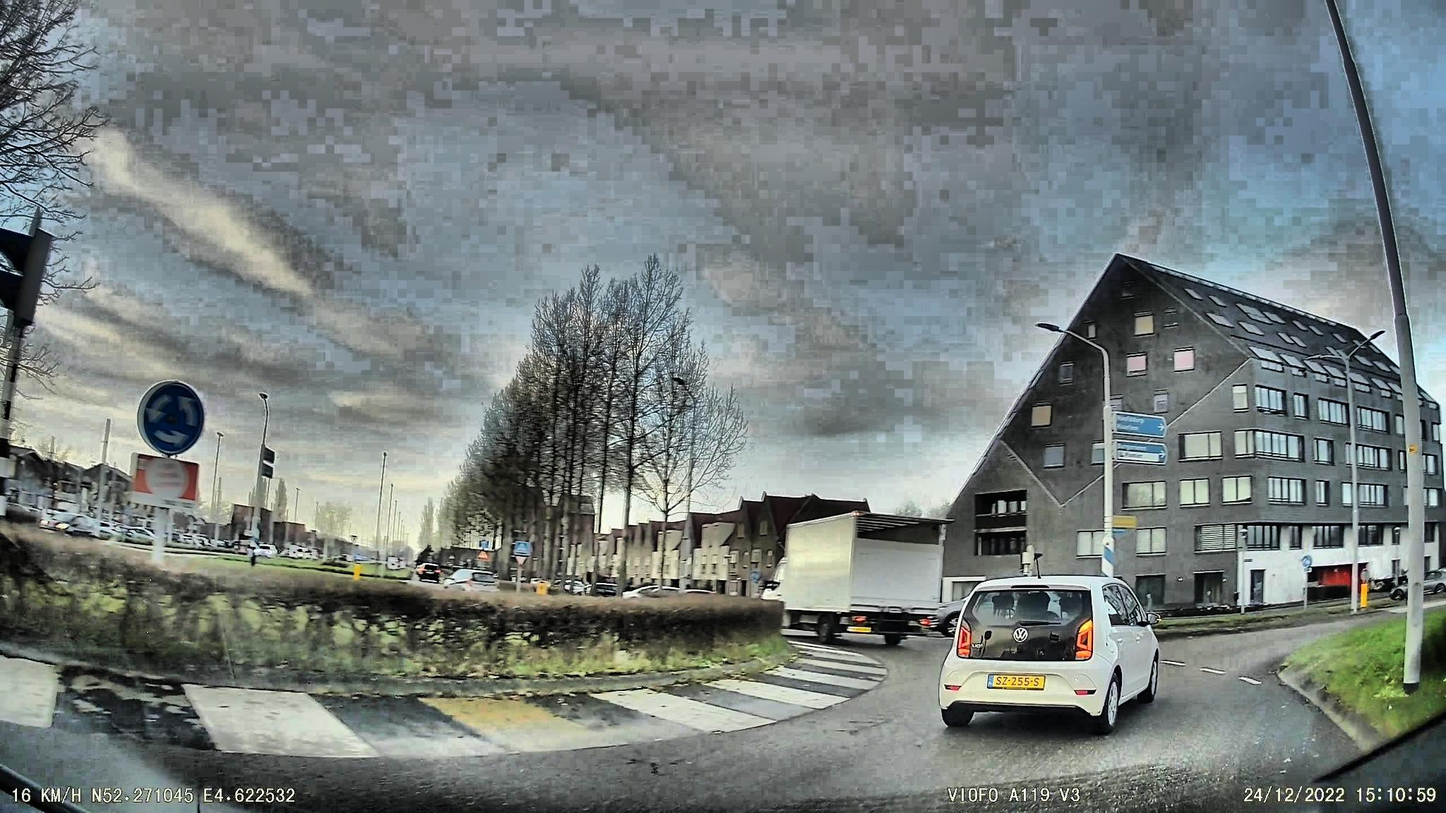Roads: (0, 622, 1364, 813)
